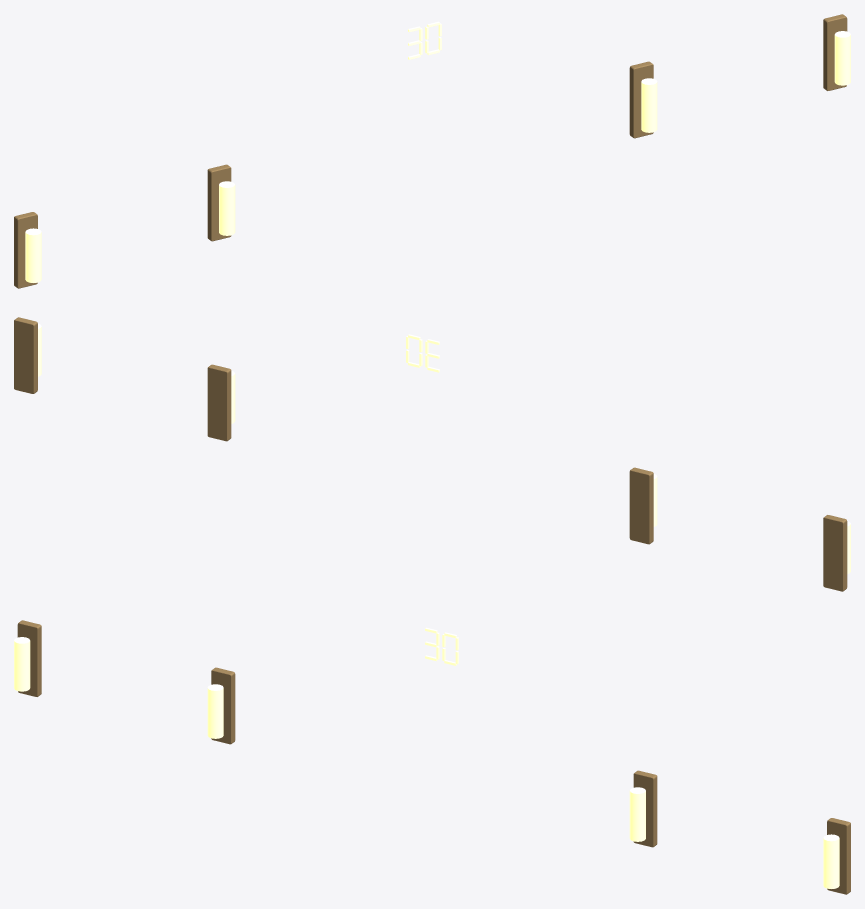
Rendered from fixtures.glb.
3 renders of one model, top to bottom at view 1: azimuth 30°, elevation 25°; view 2: azimuth 150°, elevation 25°; view 3: azimuth 330°, elevation 25°, orthographic.
Parts seen in each view (by area): view 1: back-1-2.4, back--1-2.4, back-1-4.6, back--1-4.6, sconce--1-2.4, sconce--1-4.6, sconce-1-2.4, sconce-1-4.6; view 2: back--1-2.4, back-1-2.4, back--1-4.6, back-1-4.6; view 3: back--1-2.4, back-1-2.4, back--1-4.6, back-1-4.6, sconce-1-2.4, sconce-1-4.6, sconce--1-2.4, sconce--1-4.6.
Boxes of the visible parts, x1,y1,x2,y2 form: back-1-2.4: (629,61,653,138); back--1-2.4: (207,164,231,241); back-1-4.6: (823,14,847,90); back--1-4.6: (14,212,37,288); sconce--1-2.4: (219,181,235,235); sconce--1-4.6: (25,228,41,282); sconce-1-2.4: (641,78,657,132); sconce-1-4.6: (834,31,850,85); back--1-2.4: (629,467,653,544); back-1-2.4: (207,364,231,441); back--1-4.6: (823,515,847,591); back-1-4.6: (14,317,37,393); back--1-2.4: (211,667,235,744); back-1-2.4: (633,770,657,847); back--1-4.6: (17,620,41,696); back-1-4.6: (827,818,850,894); sconce-1-2.4: (629,787,645,841); sconce-1-4.6: (823,834,839,888); sconce--1-2.4: (207,684,223,738); sconce--1-4.6: (14,637,30,691).
Bounding box in the file's own units: 9.43 × 1.7 × 0.3725.
